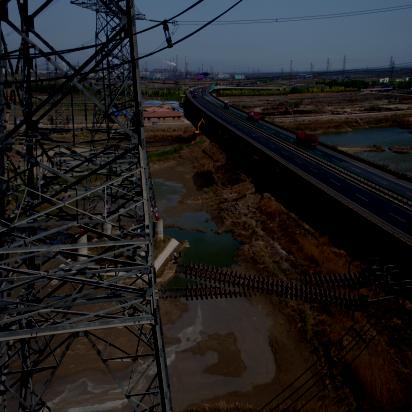insulator: (176, 259, 371, 315)
